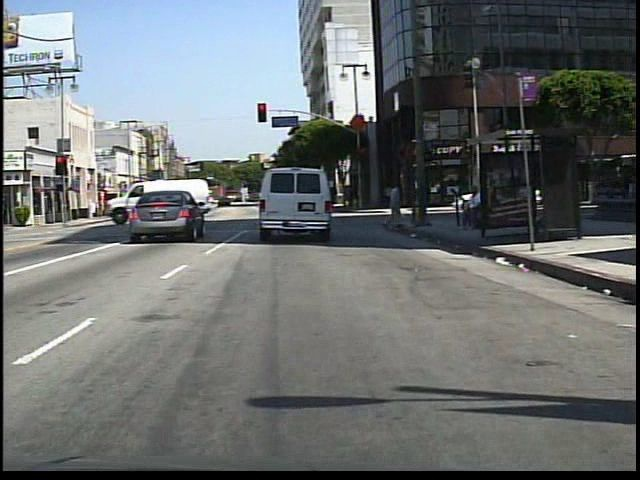person: (380, 178, 407, 235), (460, 186, 486, 235), (132, 193, 146, 218)
